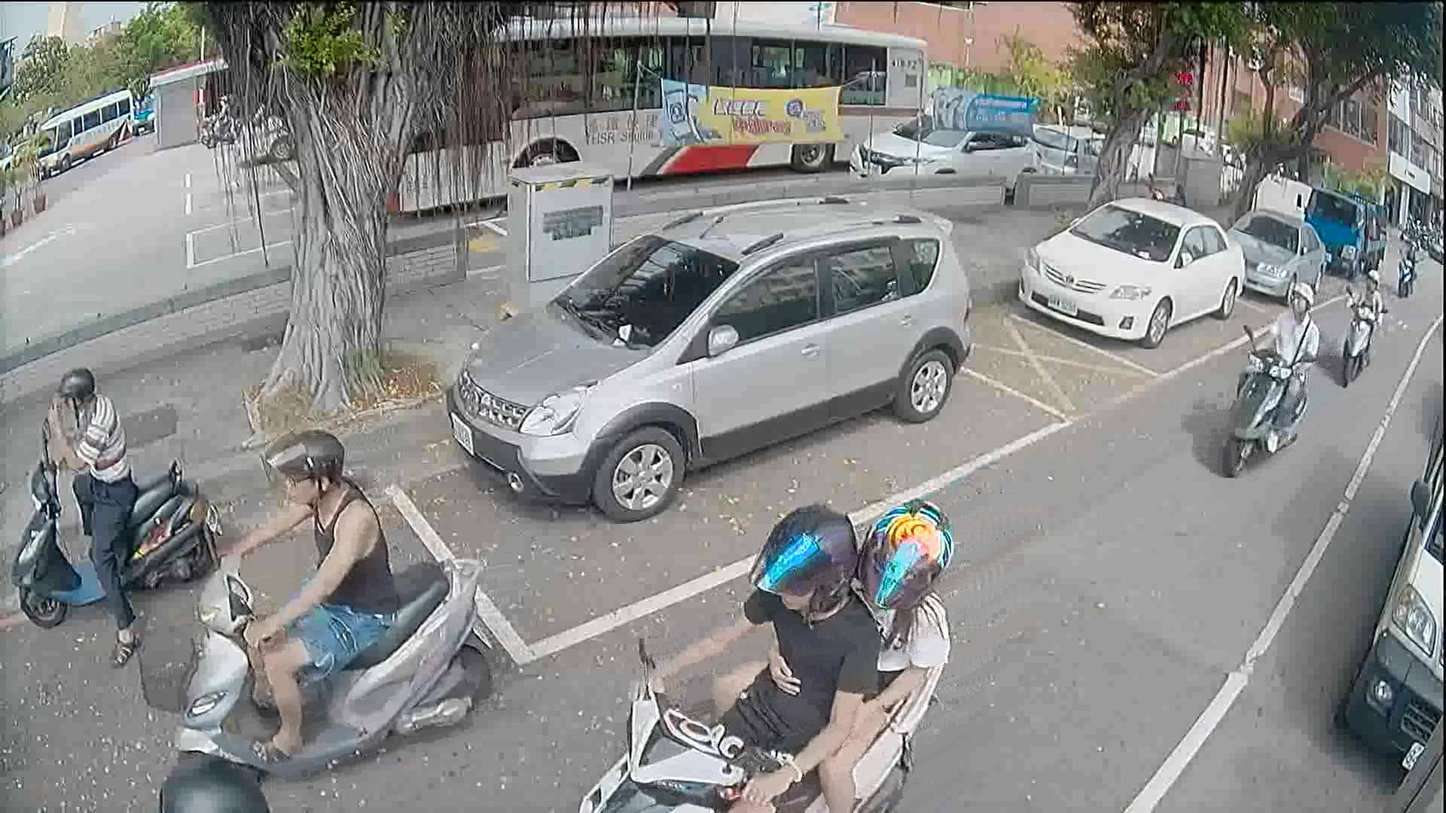person: (611, 505, 878, 812), (706, 495, 959, 811), (214, 423, 403, 769), (36, 366, 142, 662), (1227, 274, 1320, 455), (153, 748, 275, 812), (1343, 269, 1383, 366), (209, 93, 228, 131), (1405, 237, 1417, 264)
